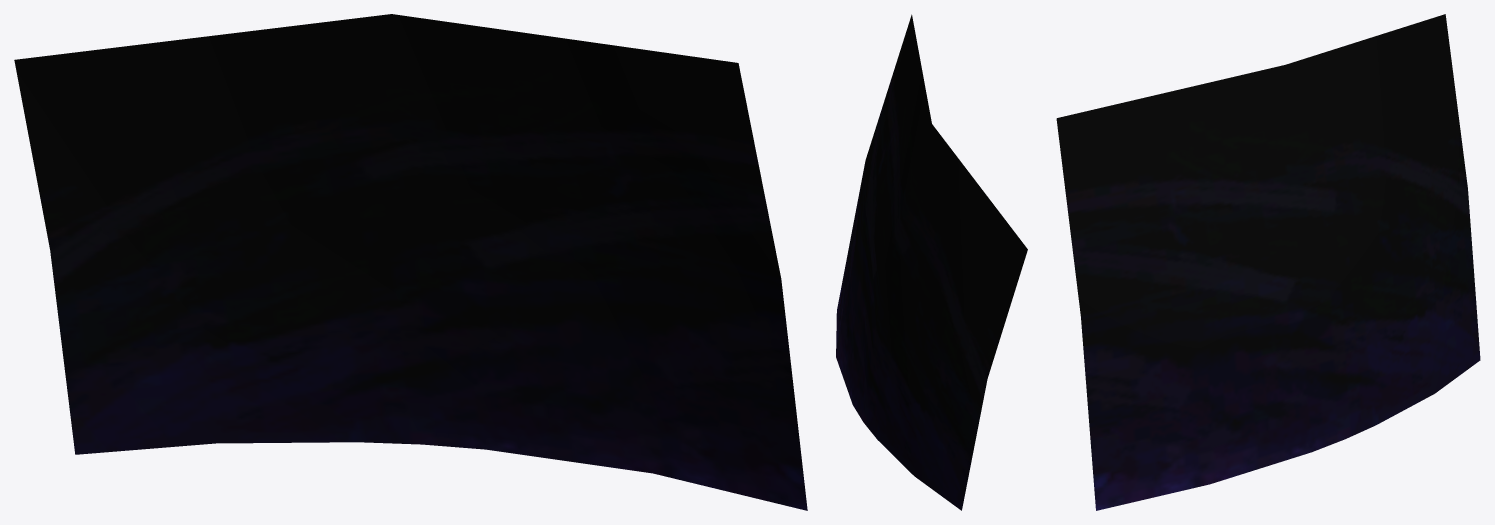
The model's file is SWORDLIGHT20_PS-AREA05-RANGE01_11.fbx.
3 renders of one model, left to right at view 1: azimuth 30°, elevation 25°; view 2: azimuth 150°, elevation 25°; view 3: azimuth 270°, elevation 25°, orthographic. The views are drawn at different scales.
Visible parts, largest first — view 1: SWORDLIGHT20_PS-AREA05-RANGE01_11; view 2: SWORDLIGHT20_PS-AREA05-RANGE01_11; view 3: SWORDLIGHT20_PS-AREA05-RANGE01_11.
Boxes of the visible parts, x1=… form: SWORDLIGHT20_PS-AREA05-RANGE01_11: x1=14, y1=14, x2=807, y2=510; SWORDLIGHT20_PS-AREA05-RANGE01_11: x1=836, y1=14, x2=1027, y2=510; SWORDLIGHT20_PS-AREA05-RANGE01_11: x1=1056, y1=14, x2=1480, y2=510.
Size of the model in its own units: 263176 by 233217 by 239161.
1 material, 1 textured.
